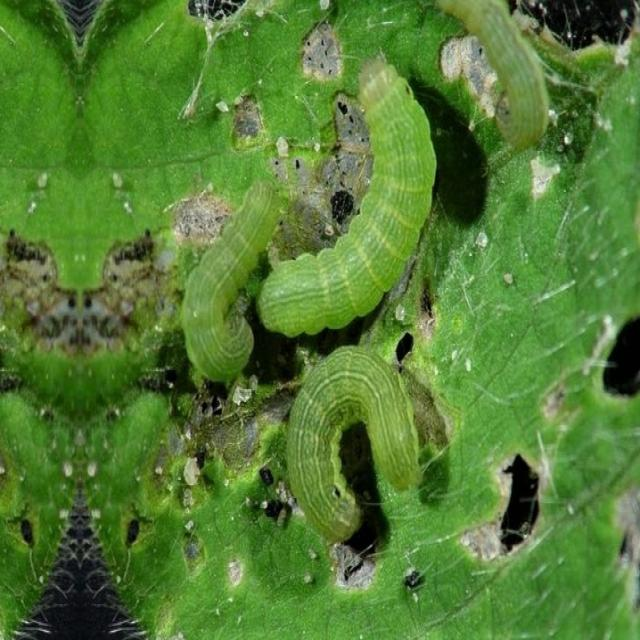Armyworm: (260, 15, 434, 346), (269, 351, 448, 545), (137, 160, 285, 393), (419, 1, 568, 175)
Armyworm_damage: (464, 421, 556, 600), (586, 298, 640, 416)
